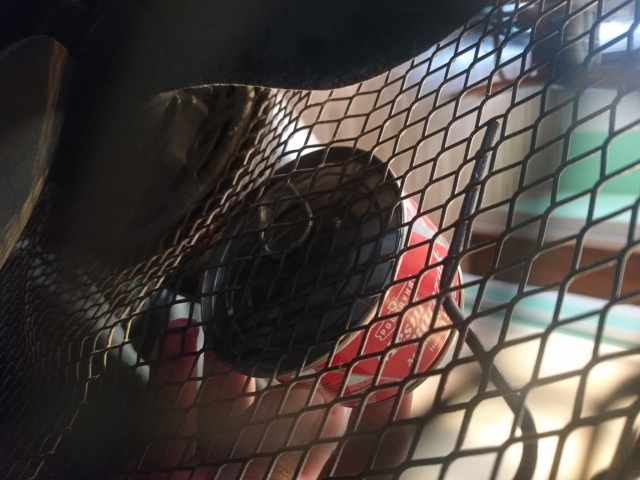Podravka Luncheon Meat 150g: (195, 142, 469, 412)
